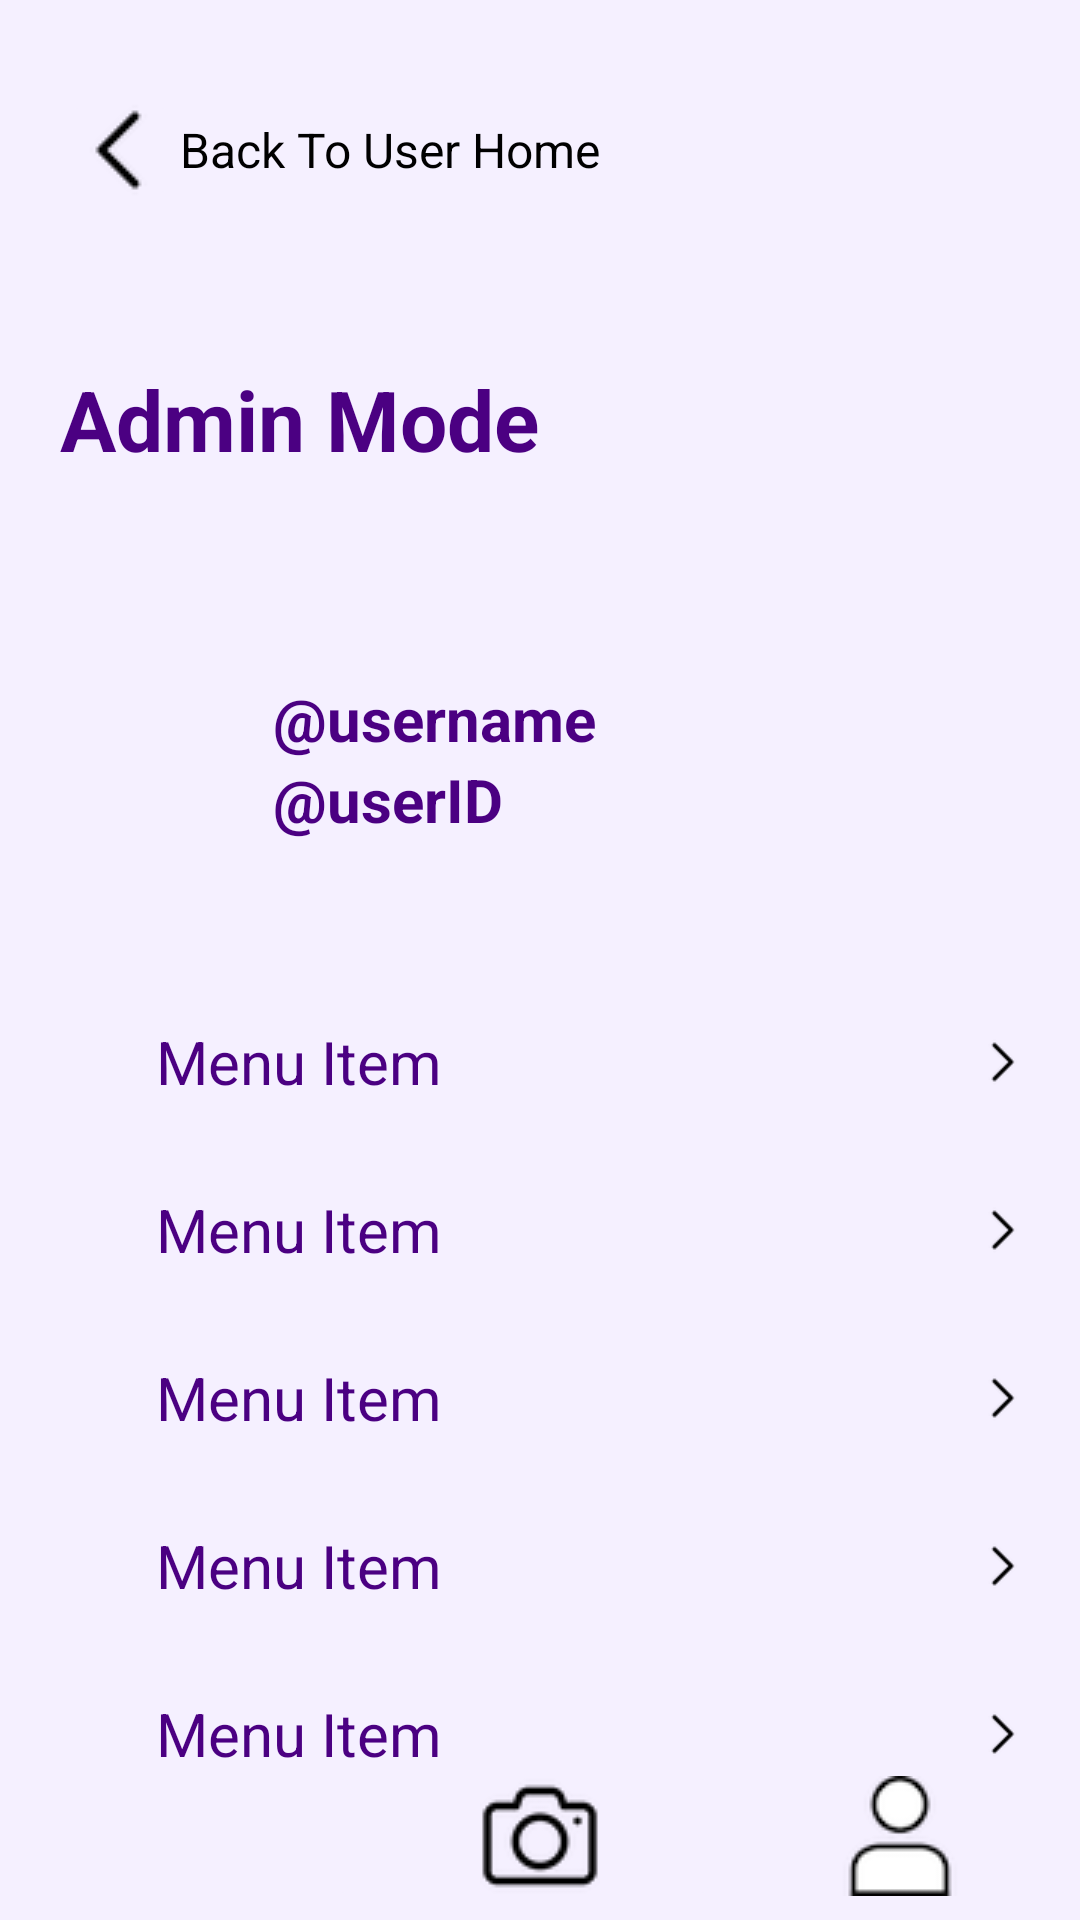

Named icons in this screenshot (1080*1920) and their centers, (x,y):
Profile: (900,1836)
right arrow: (1002,1062), (1002,1230), (1002,1398), (1002,1566), (1002,1734)
